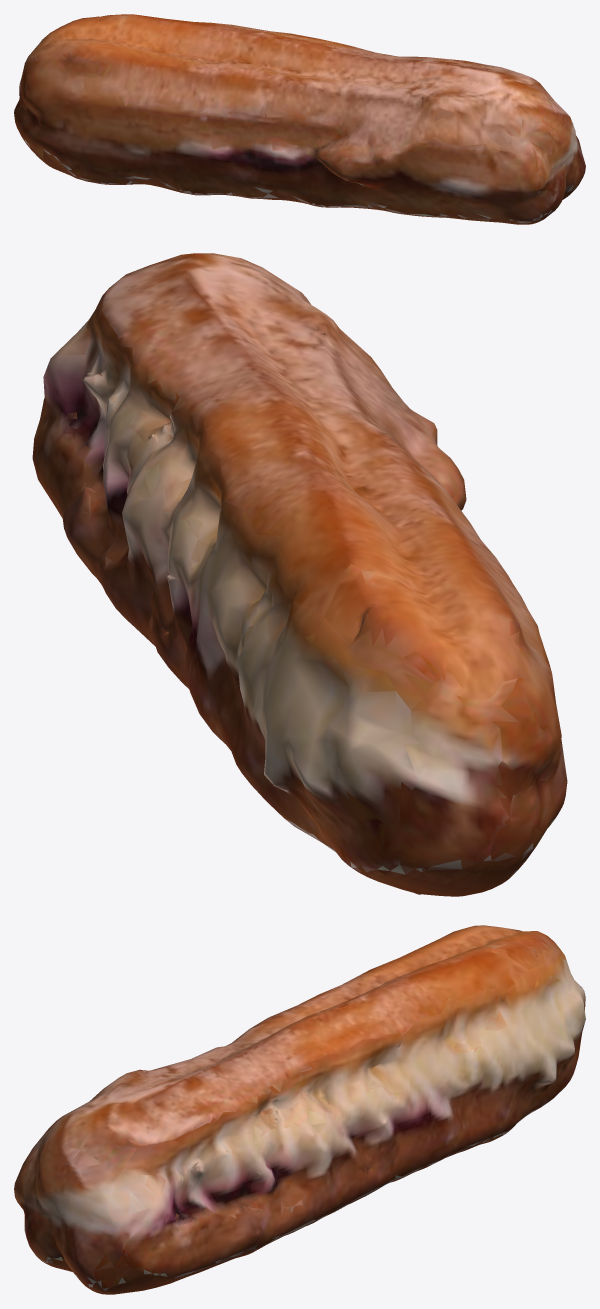
The model's file is eclaire_5450.obj.
3 renders of one model, top to bottom at view 1: azimuth 30°, elevation 25°; view 2: azimuth 150°, elevation 25°; view 3: azimuth 270°, elevation 25°, orthographic. The views are drawn at different scales.
Size of the model in its own units: 93.81 by 31.6 by 91.3.
1 material, 1 textured.
